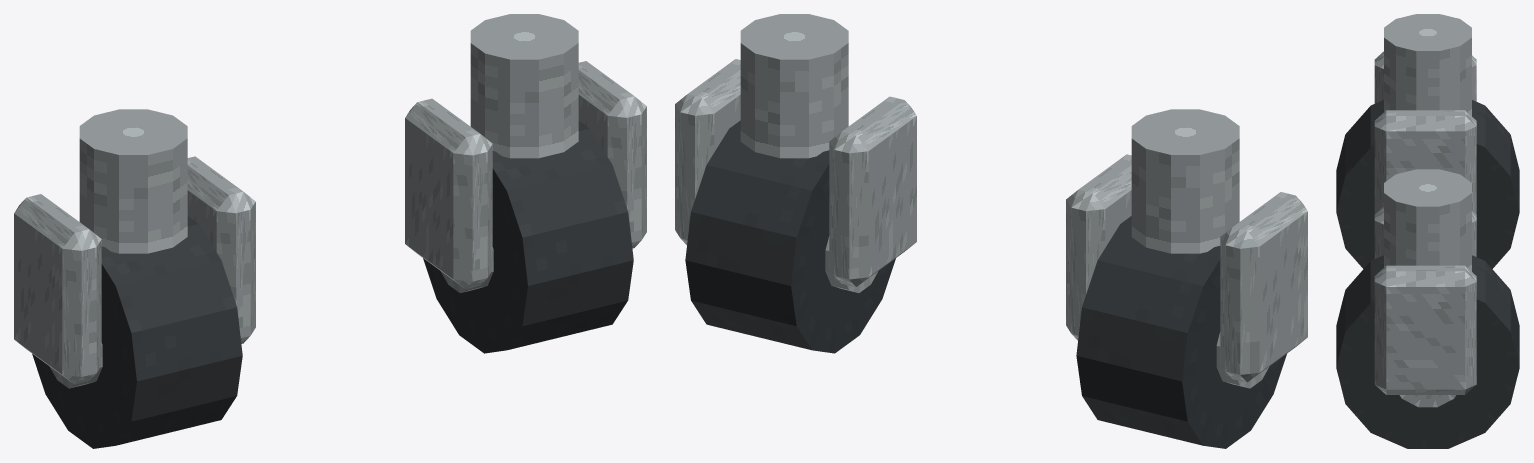
Rendered from wheel_caster.glb.
The picture shows the model from 3 angles, left to right: view 1: azimuth 30°, elevation 25°; view 2: azimuth 150°, elevation 25°; view 3: azimuth 270°, elevation 25°; orthographic projection. The views are drawn at different scales.
Visible parts, largest first — view 1: block_caster wheel (×2), block_swivel yoke (×4), block_pivot stem (×2); view 2: block_caster wheel (×2), block_swivel yoke (×4), block_pivot stem (×2); view 3: block_caster wheel (×2), block_swivel yoke (×4), block_pivot stem (×2), block_axle rivet.
Part boxes in pixels (x1,y1,x2,y2): block_caster wheel (×2): (32,121,633,448); block_swivel yoke (×4): (14,61,646,384); block_pivot stem (×2): (79,14,578,253); block_caster wheel (×2): (685,120,1286,448); block_swivel yoke (×4): (675,59,1307,382); block_pivot stem (×2): (740,14,1239,253); block_caster wheel (×2): (1336,100,1519,448); block_swivel yoke (×4): (1374,51,1476,394); block_pivot stem (×2): (1384,14,1471,271); block_axle rivet: (1399,395,1456,407).
Bounding box in the file's own units: 0.102 × 0.0491 × 0.034.
1 material, 1 textured.
